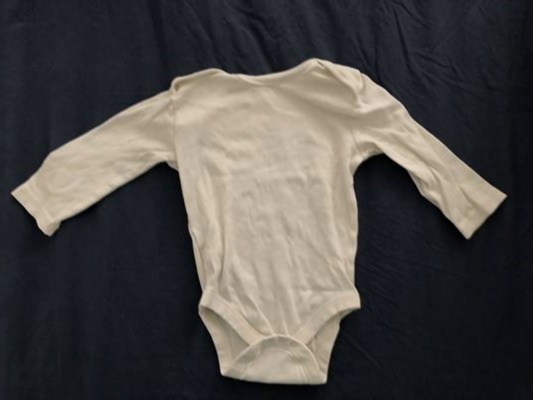Body: (6, 32, 503, 395)
